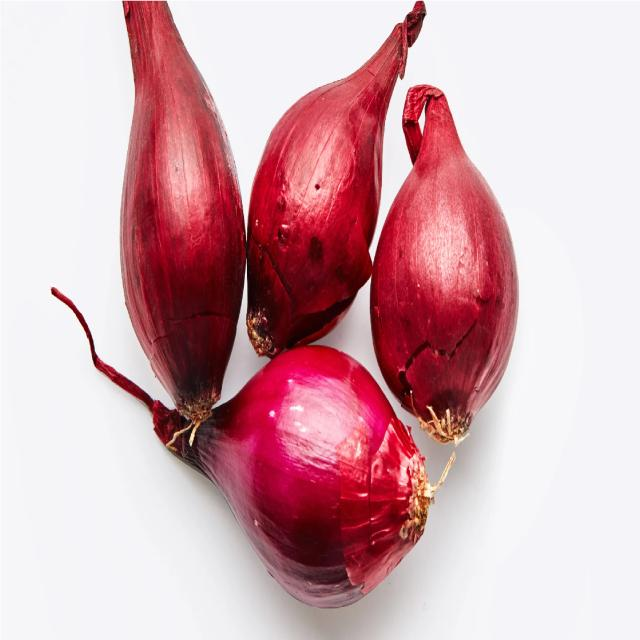organic: (198, 351, 424, 610), (370, 128, 522, 444), (119, 45, 244, 421), (243, 49, 376, 351)
